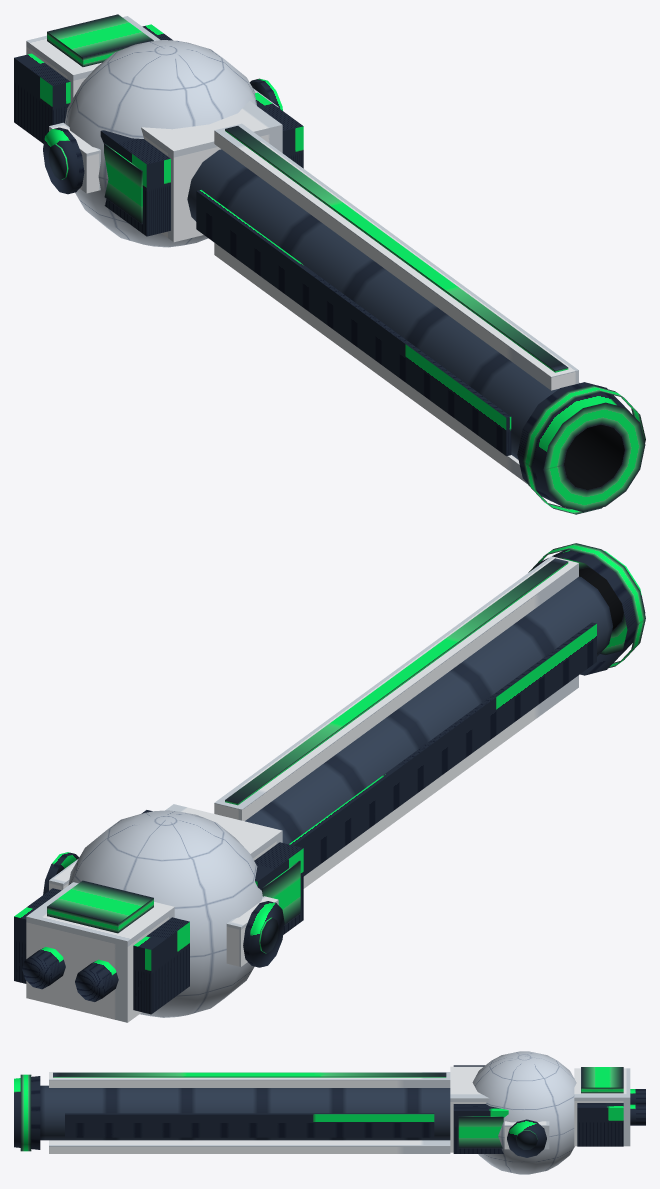
The model's file is turret_lazer_deletor.obj.
3 renders of one model, top to bottom at view 1: azimuth 30°, elevation 25°; view 2: azimuth 150°, elevation 25°; view 3: azimuth 270°, elevation 25°, orthographic. The views are drawn at different scales.
Visible parts, largest first — view 1: turret_lazer_deletor; view 2: turret_lazer_deletor; view 3: turret_lazer_deletor.
Boxes of the visible parts, x1,y1,x2,y2 form: turret_lazer_deletor: [14, 14, 645, 514]; turret_lazer_deletor: [14, 543, 645, 1022]; turret_lazer_deletor: [14, 1051, 645, 1174].
Bounding box in the file's own units: 2.34 × 2 × 10.14.
1 material, 1 textured.
